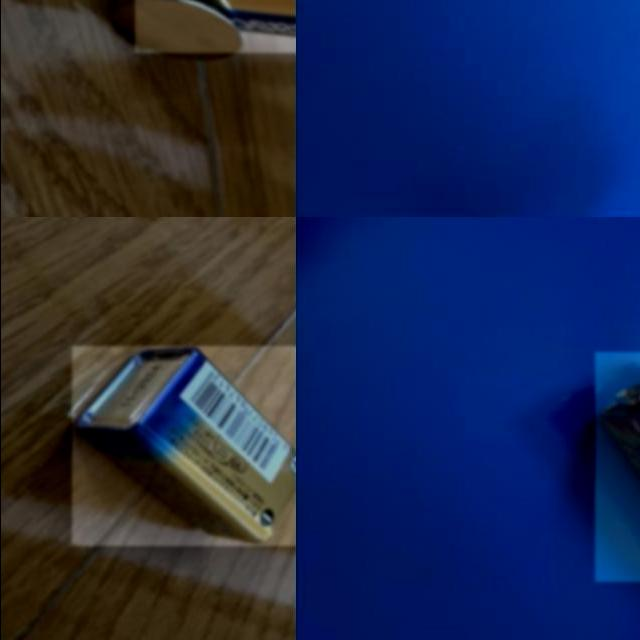9V: (71, 346, 295, 546)
